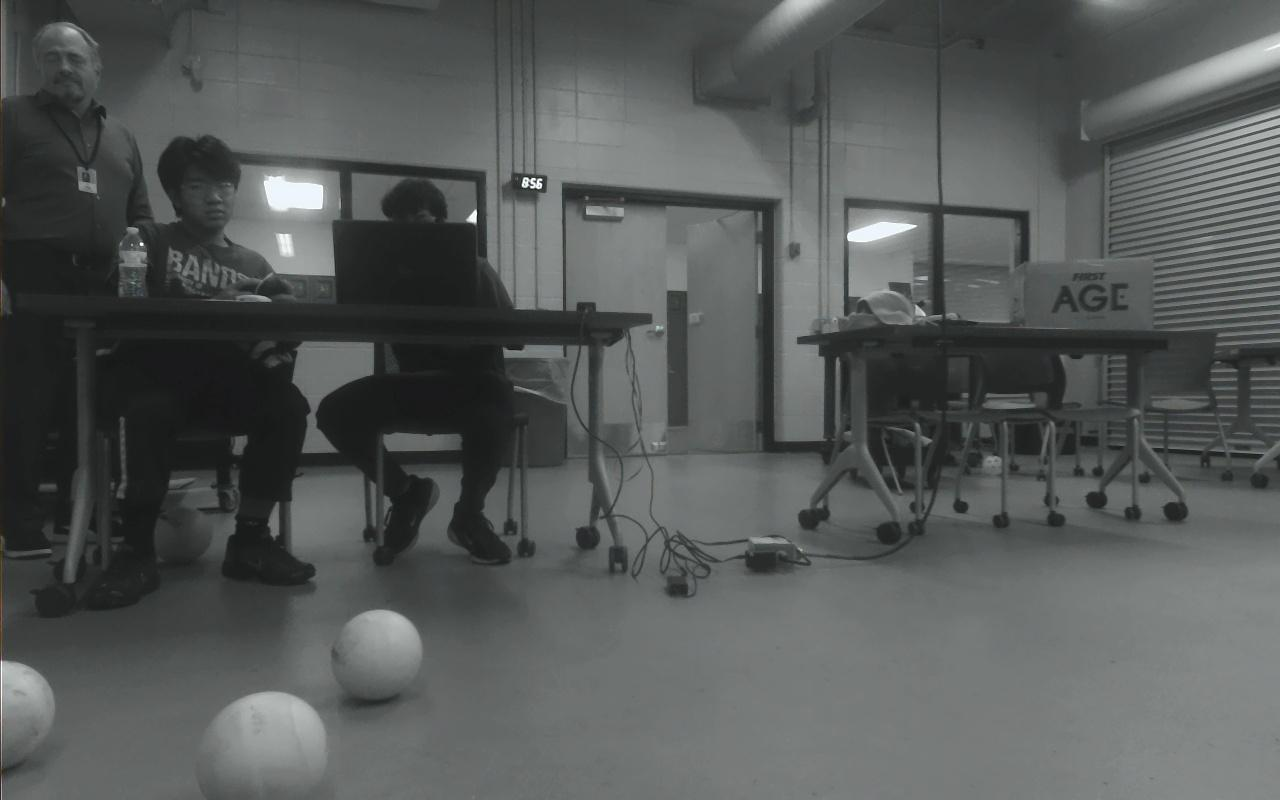Fuel: (197, 691, 326, 800), (332, 609, 422, 700), (0, 661, 56, 769)
